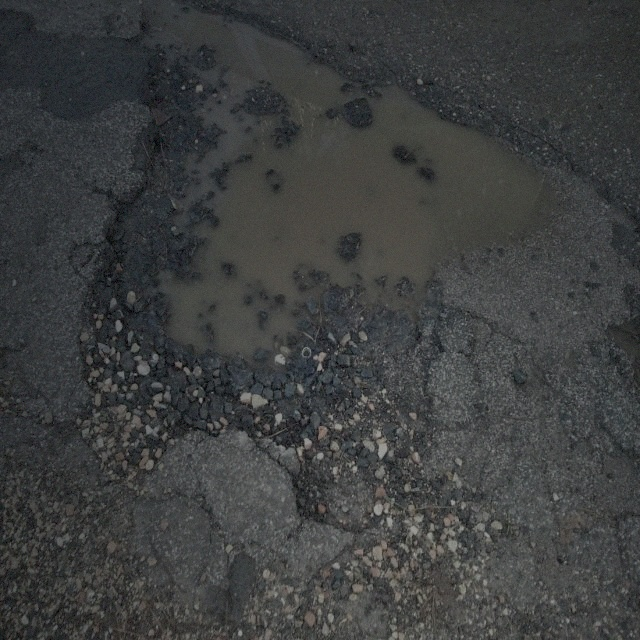pothole: (81, 12, 553, 500)
